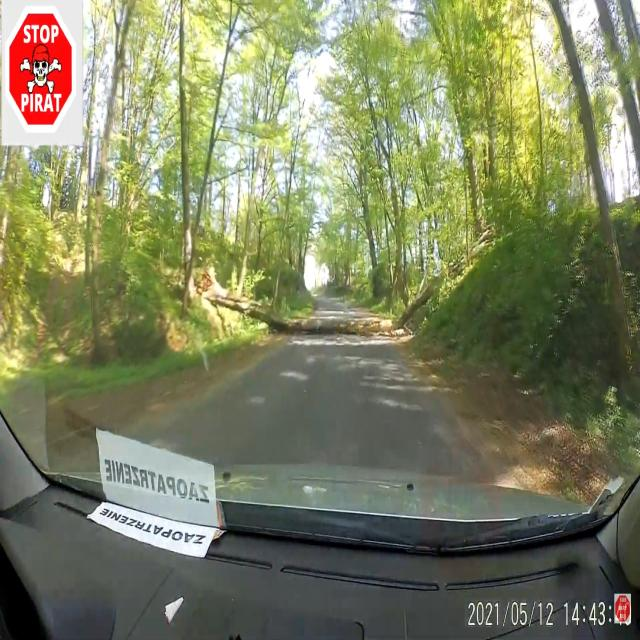fallen_tree: (265, 308, 408, 339)
